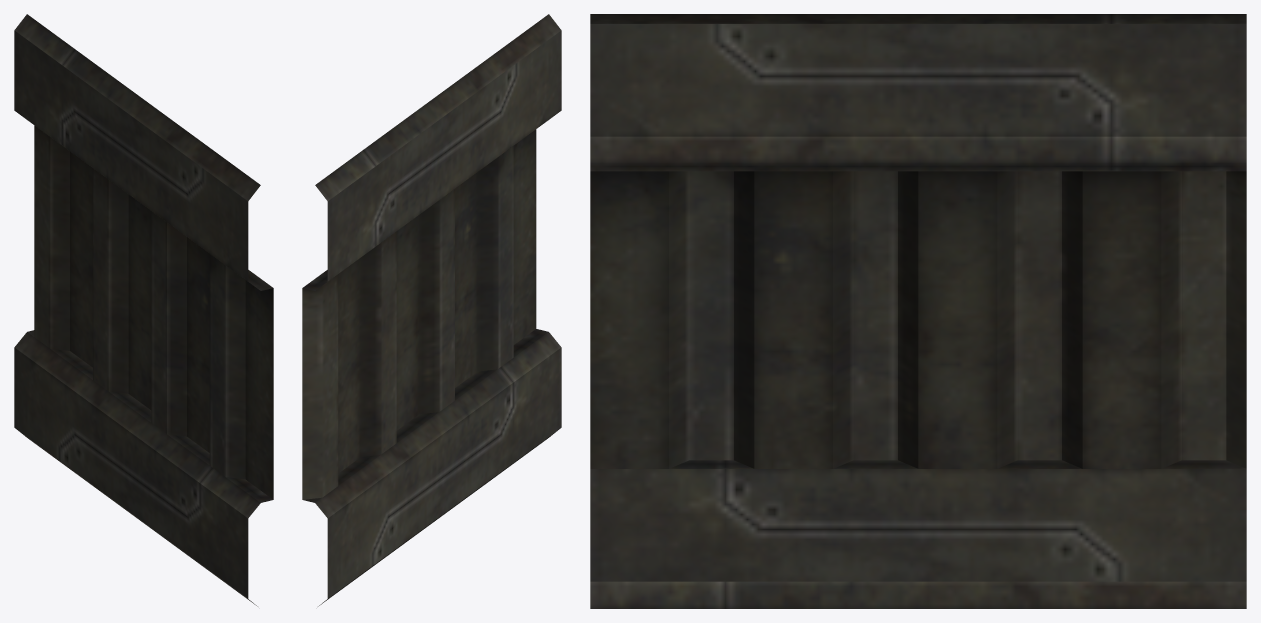
File: pplant_bulkhead_short_extender.dae
3 views of the same model, side by side, from view 1: azimuth 30°, elevation 25°; view 2: azimuth 150°, elevation 25°; view 3: azimuth 270°, elevation 25° (orthographic). The views are drawn at different scales.
Visible parts, largest first — view 1: bulkhead_short_extender; view 2: bulkhead_short_extender; view 3: bulkhead_short_extender.
Part boxes in pixels (left/top/right/bottom): bulkhead_short_extender: left=14, top=14, right=273, bottom=606; bulkhead_short_extender: left=302, top=14, right=561, bottom=606; bulkhead_short_extender: left=590, top=14, right=1246, bottom=608.
Bounding box in the file's own units: 0.125 × 2 × 2.
